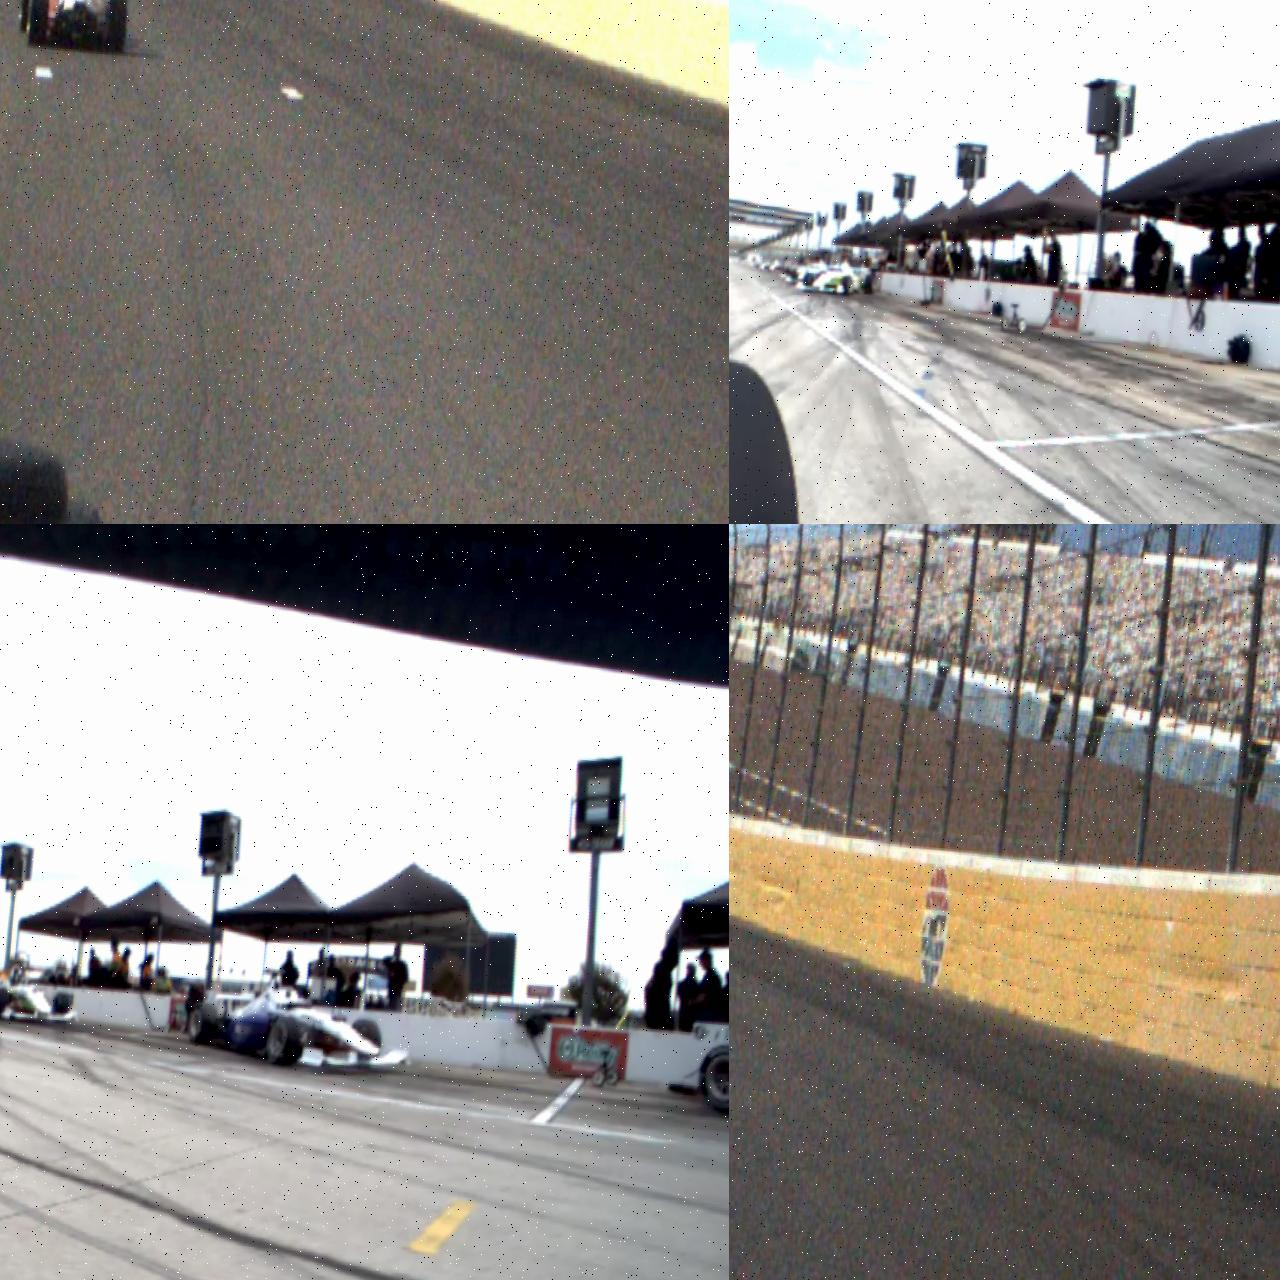AV: (185, 961, 418, 1080), (15, 0, 134, 55), (0, 953, 82, 1026), (796, 253, 878, 299)
Wheel: (729, 345, 815, 524), (695, 1042, 729, 1121), (264, 1014, 302, 1070), (348, 1017, 384, 1065), (187, 1002, 216, 1046), (106, 0, 129, 54), (26, 0, 51, 48), (18, 0, 37, 34), (51, 993, 71, 1024), (864, 275, 876, 295), (842, 275, 852, 296), (804, 272, 814, 292), (0, 987, 6, 1018)
